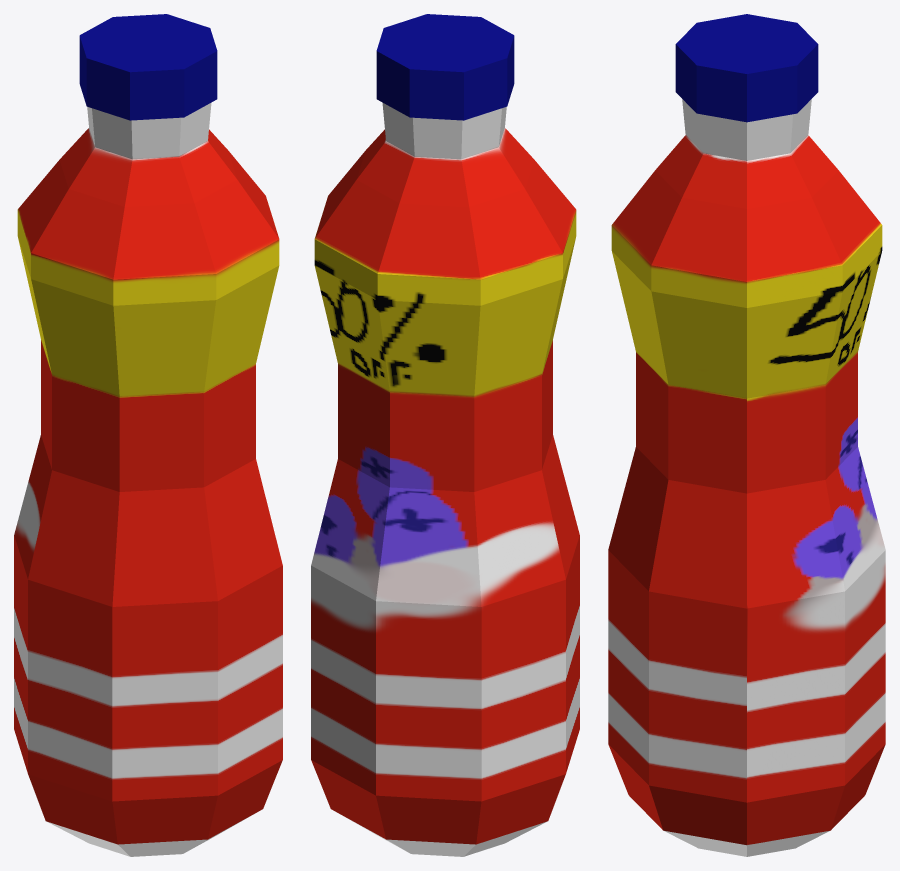
Rendered from danonão Grosso.fbx.
The picture shows the model from 3 angles, left to right: view 1: azimuth 30°, elevation 25°; view 2: azimuth 150°, elevation 25°; view 3: azimuth 270°, elevation 25°; orthographic projection.
Visible parts, largest first — view 1: Cylinder; view 2: Cylinder; view 3: Cylinder.
Boxes of the visible parts, <box> form: Cylinder: <box>14,14,282,856</box>; Cylinder: <box>311,14,579,856</box>; Cylinder: <box>608,14,885,856</box>.
Bounding box in the file's own units: 137 × 428 × 137.
